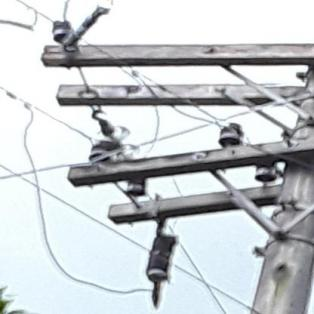Poste: (137, 31, 314, 314)
